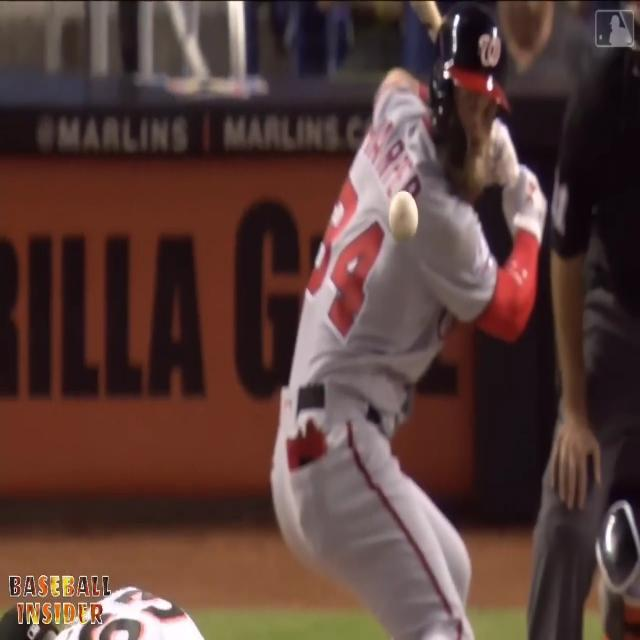baseball: (391, 190, 417, 242)
